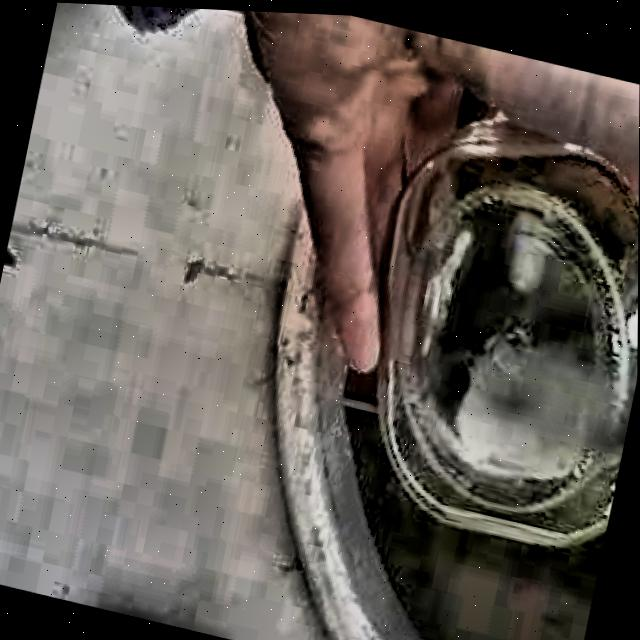glass: (376, 110, 639, 540)
